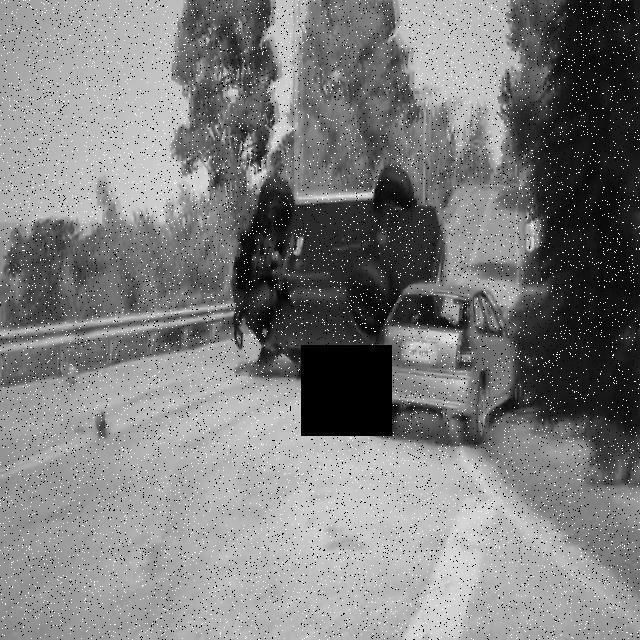person: (218, 130, 440, 400)
